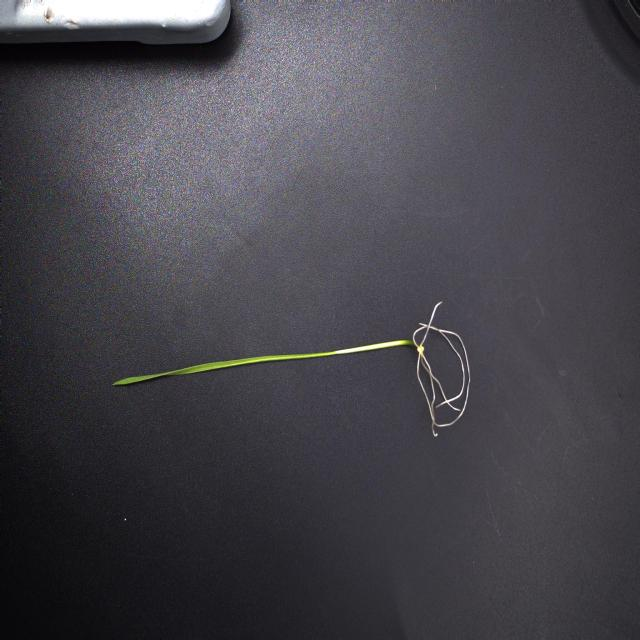leaf: (108, 349, 335, 388)
root: (412, 300, 472, 438)
steb: (336, 339, 419, 356)
